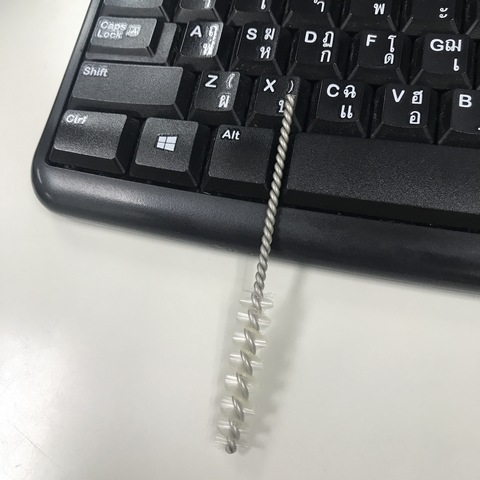Twist Brush-B: (210, 94, 296, 458)
